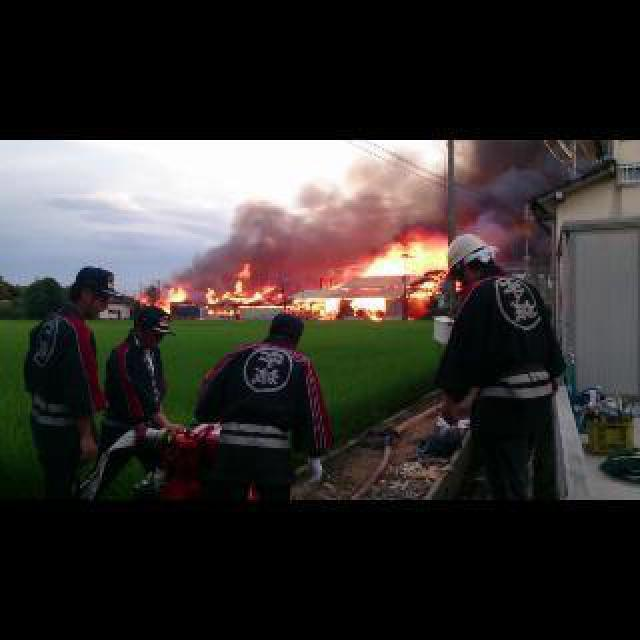Fire: (356, 244, 448, 296), (206, 264, 288, 312), (140, 286, 184, 312), (288, 298, 342, 318), (344, 298, 384, 320), (324, 268, 352, 290)
Smoke: (164, 180, 334, 276), (336, 140, 450, 236)
